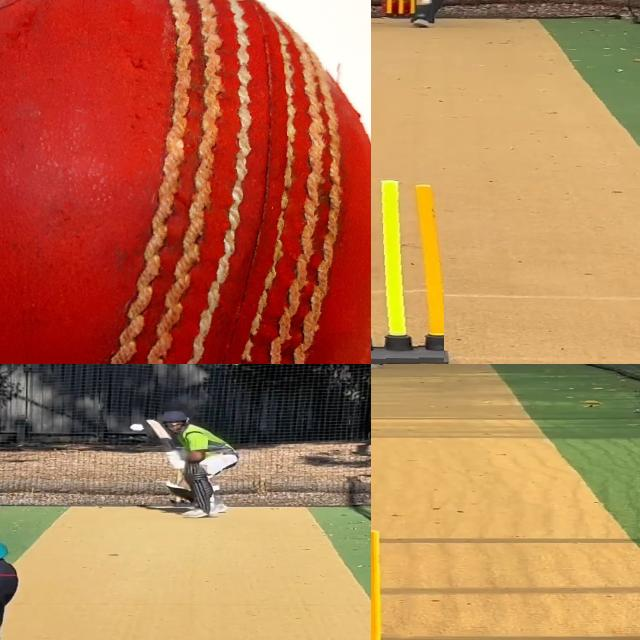Cricket ball: (0, 0, 371, 364), (127, 423, 145, 434), (420, 0, 432, 5)
Stumps: (371, 178, 444, 364), (385, 0, 417, 17)
